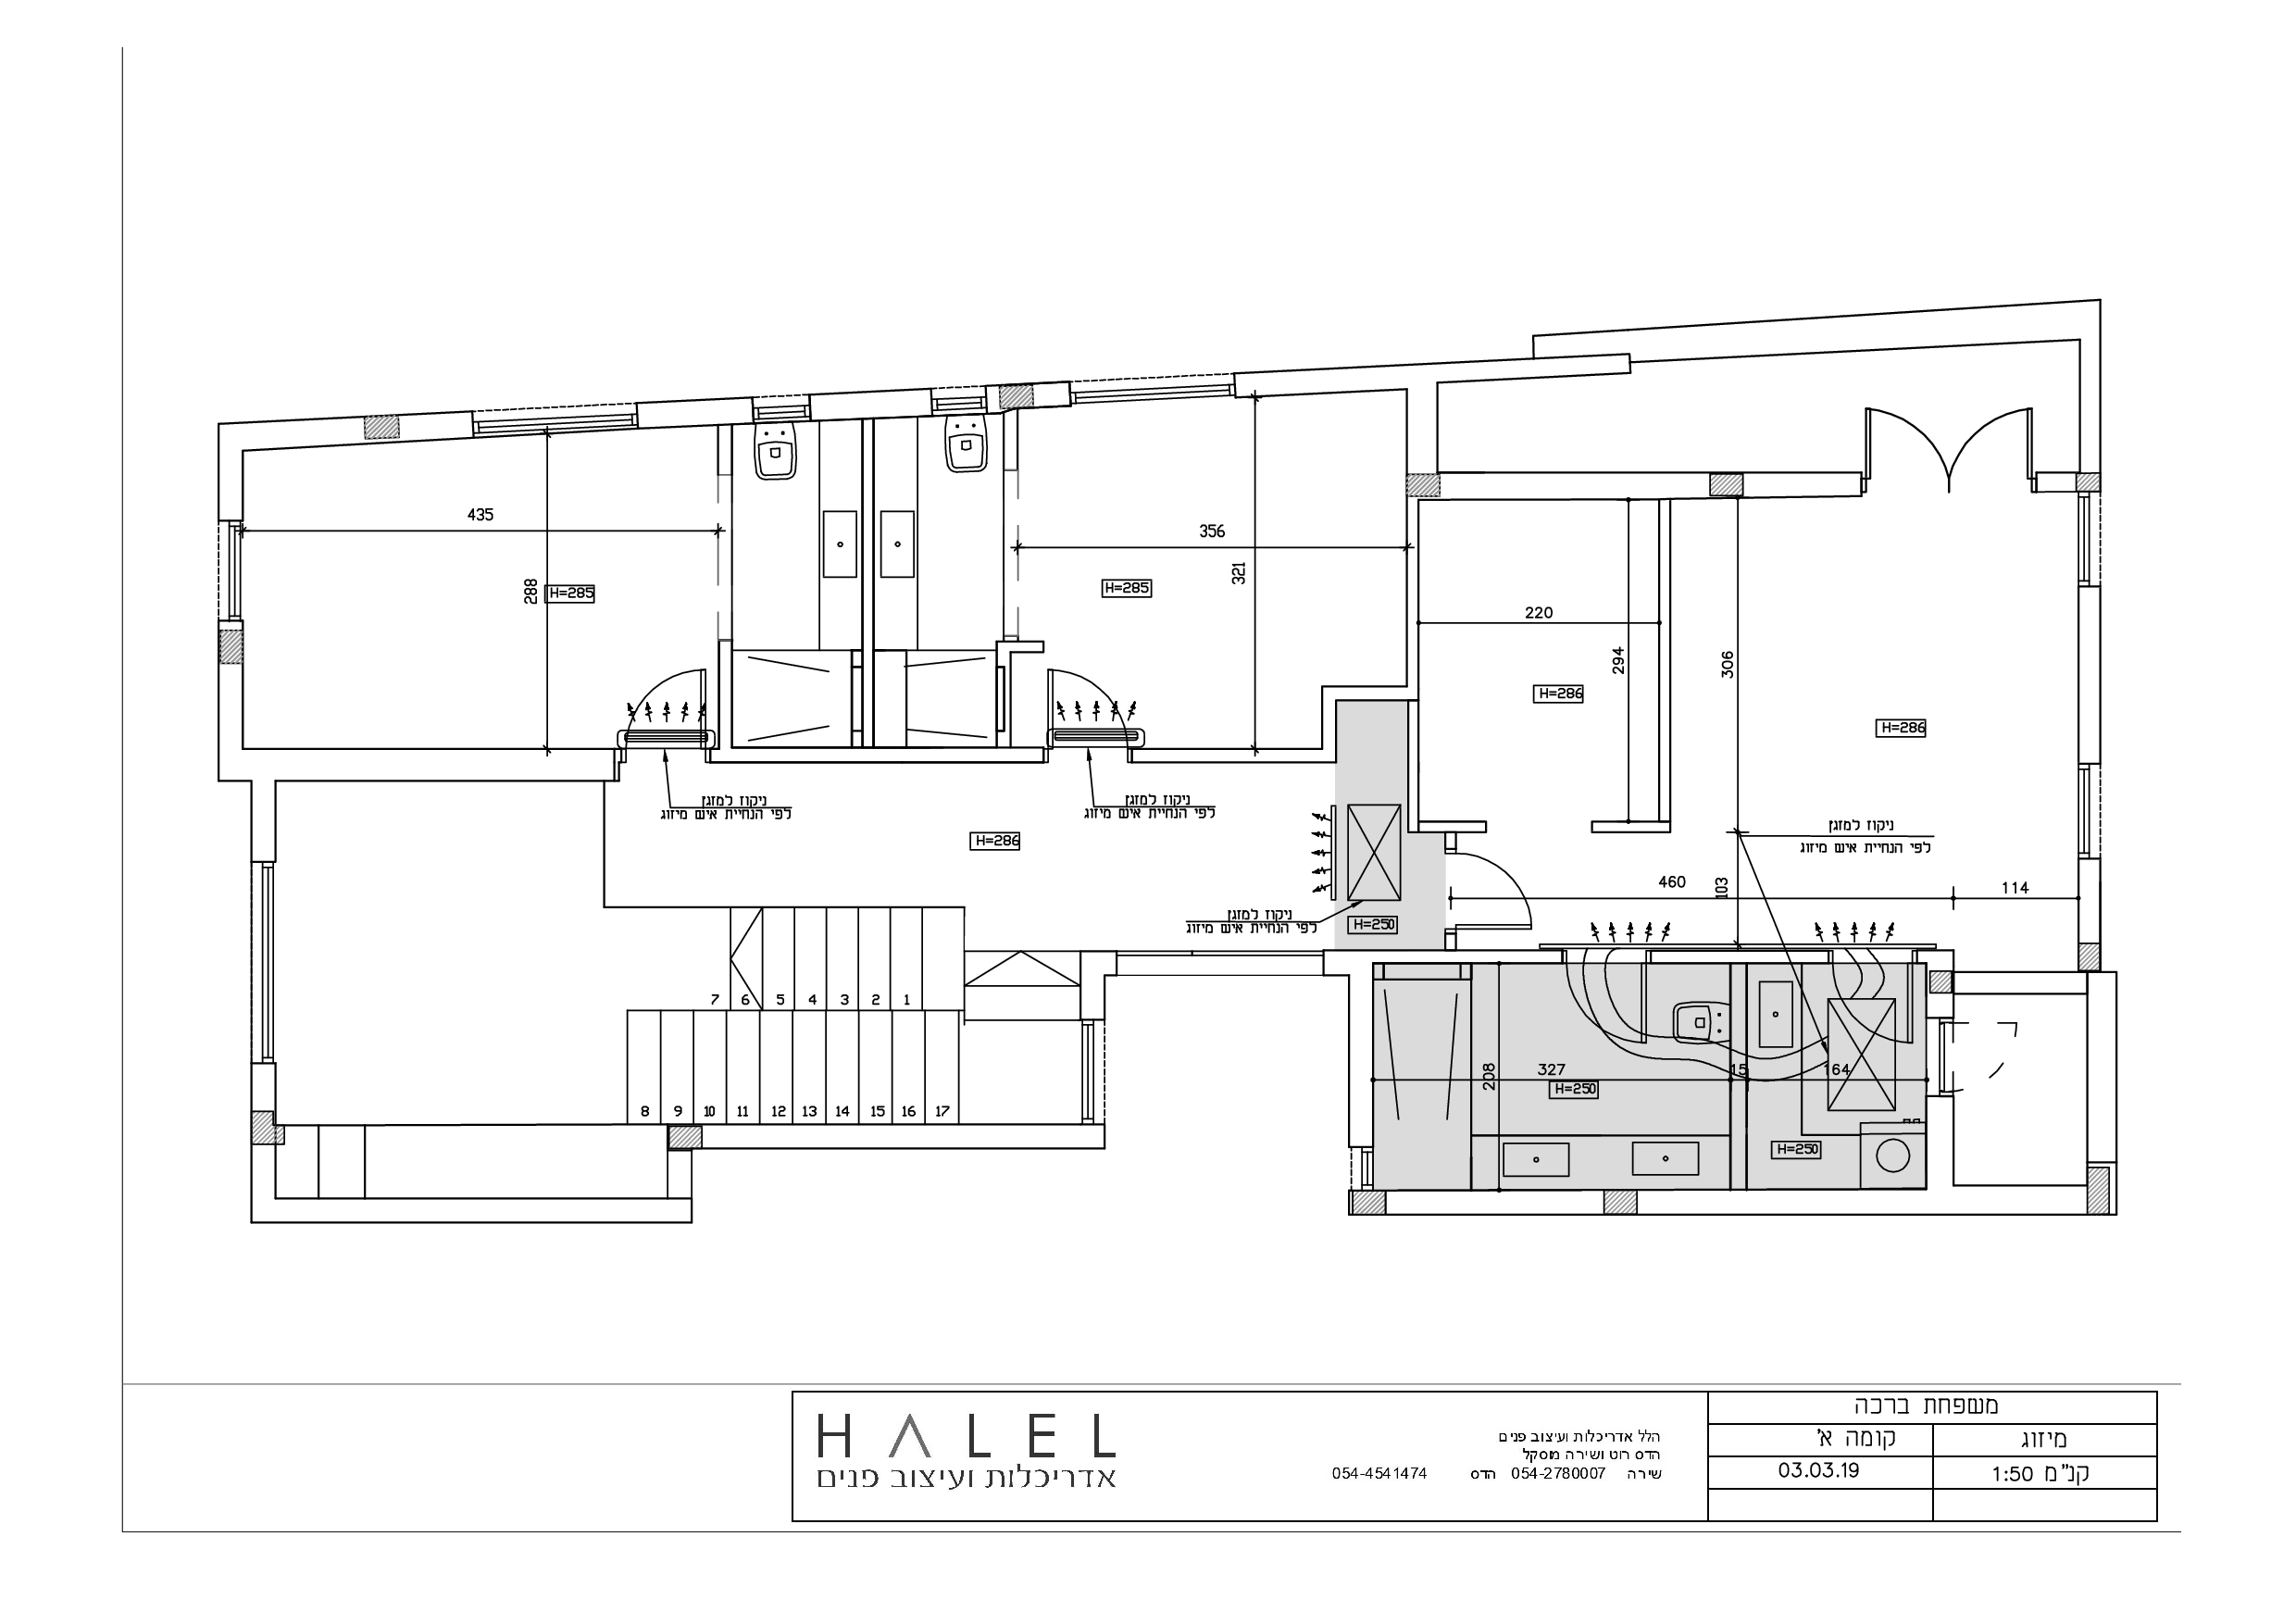door: (1035, 636, 1144, 773), (1841, 390, 1950, 526), (1948, 392, 2057, 527), (610, 633, 717, 768), (1440, 826, 1548, 961)
window: (244, 831, 285, 1084), (1056, 360, 1253, 410), (469, 402, 659, 436), (1077, 1014, 1130, 1130), (2061, 482, 2113, 596), (2062, 752, 2115, 866), (213, 503, 244, 642), (740, 390, 824, 429), (921, 383, 996, 424)
